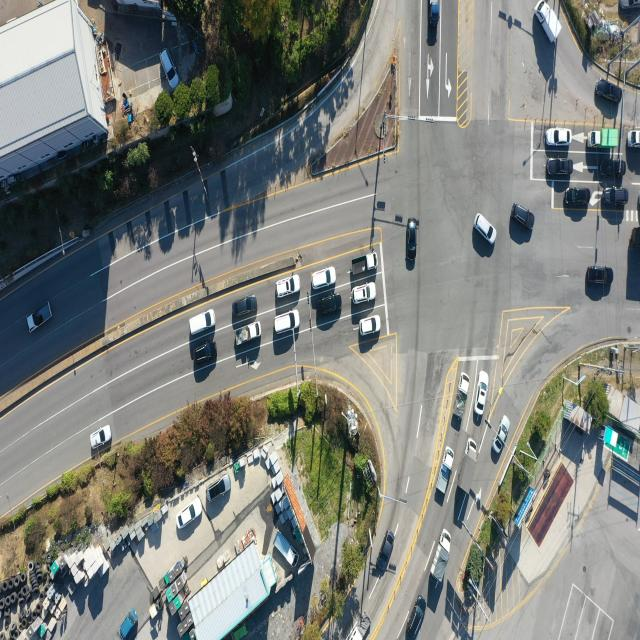car: (159, 47, 180, 91), (378, 530, 396, 575), (176, 500, 201, 531), (406, 602, 426, 640), (476, 214, 498, 248), (189, 309, 216, 336), (492, 415, 509, 455), (513, 202, 536, 231), (408, 216, 420, 269), (274, 311, 300, 335), (208, 477, 231, 504), (596, 82, 621, 105), (476, 370, 489, 414), (564, 188, 590, 210), (193, 343, 217, 366), (320, 293, 345, 315), (584, 267, 611, 287), (276, 276, 300, 298), (234, 294, 258, 316), (352, 282, 376, 304), (310, 269, 335, 290), (91, 424, 112, 449), (548, 158, 573, 178), (547, 129, 572, 148), (603, 186, 628, 205), (600, 160, 625, 179), (358, 316, 380, 336), (631, 224, 640, 248), (619, 0, 639, 10)
small_truck: (430, 530, 452, 584), (457, 439, 477, 496), (273, 530, 300, 569), (538, 0, 562, 43), (437, 446, 456, 494), (456, 374, 470, 425), (233, 320, 260, 346), (588, 130, 618, 151), (350, 252, 378, 274), (118, 612, 136, 640), (428, 0, 439, 29), (628, 128, 640, 148)
